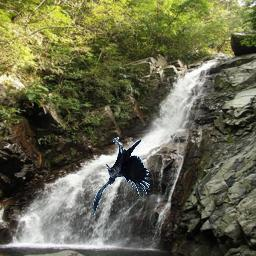Crow: (93, 136, 152, 216)
